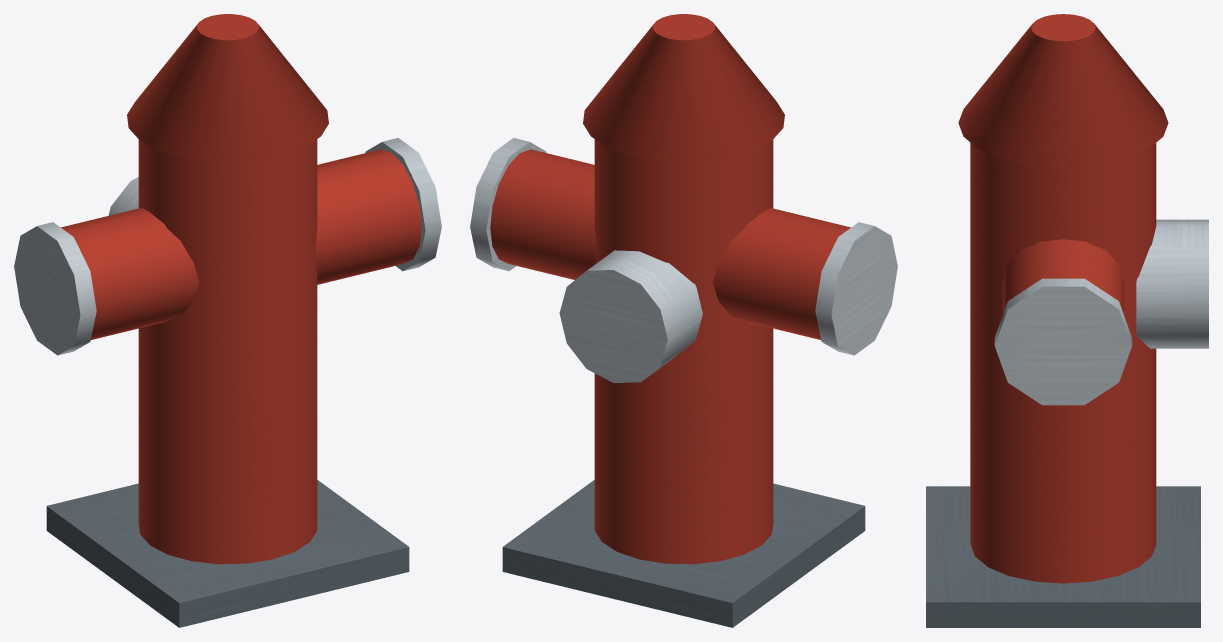
File: hydrant.glb
The picture shows the model from 3 angles, left to right: view 1: azimuth 30°, elevation 25°; view 2: azimuth 150°, elevation 25°; view 3: azimuth 270°, elevation 25°; orthographic projection. The views are drawn at different scales.
Visible parts, largest first — view 1: hydrant; view 2: hydrant; view 3: hydrant.
Part boxes in pixels (<box>): hydrant: <box>14,14,441,627</box>; hydrant: <box>470,14,897,627</box>; hydrant: <box>926,14,1208,627</box>.
Size of the model in its own units: 0.534 by 0.74 by 0.35.
3 materials, 3 textured.
